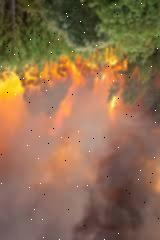fire: (1, 39, 144, 97)
